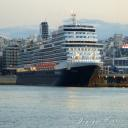cruises: (17, 20, 104, 89)
